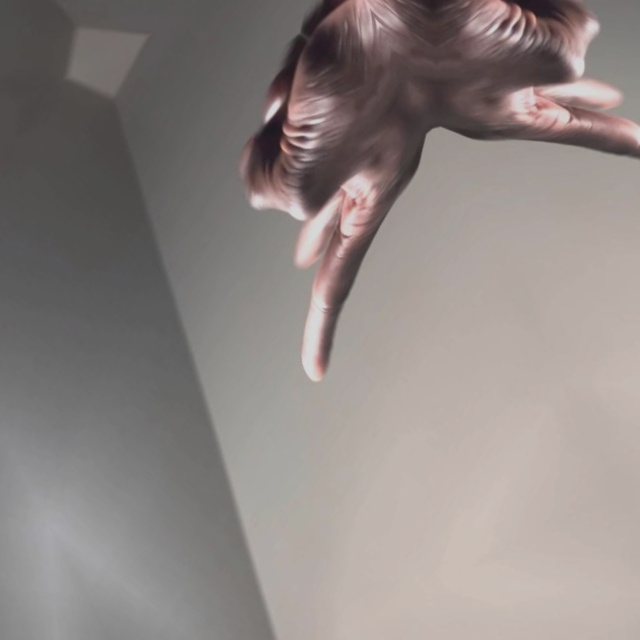Scissors: (364, 0, 640, 286)
